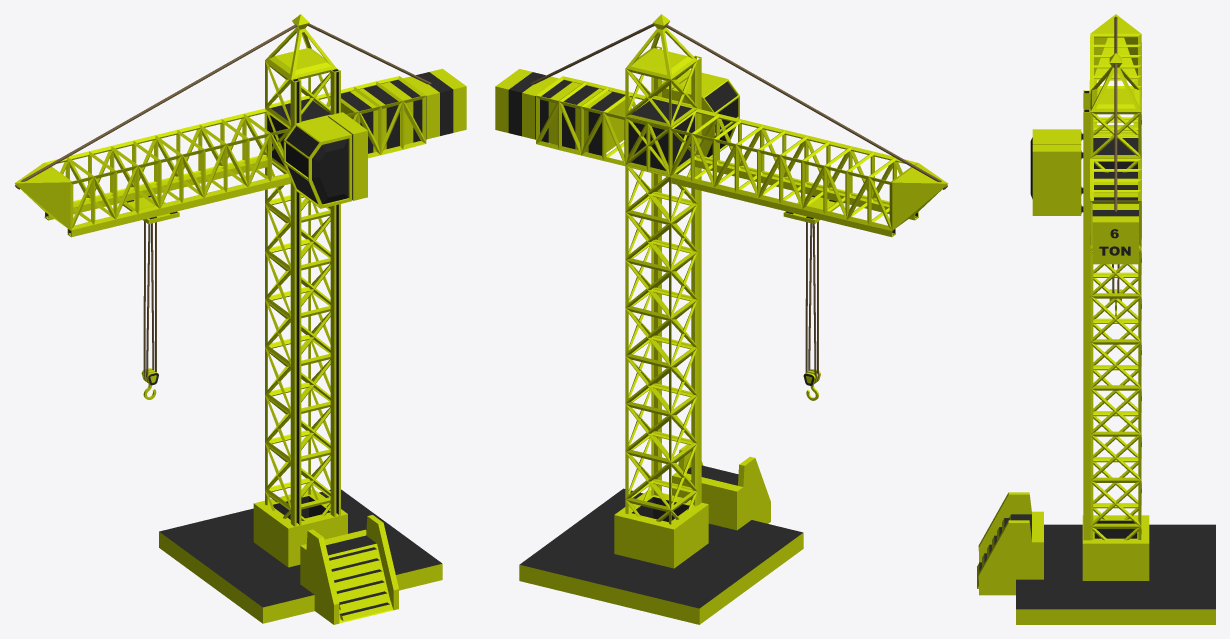
File: home2.glb
3 views of the same model, side by side, from view 1: azimuth 30°, elevation 25°; view 2: azimuth 150°, elevation 25°; view 3: azimuth 270°, elevation 25° (orthographic). The views are drawn at different scales.
Visible parts, largest first — view 1: Cube.003, Cube.006, Cube.011; view 2: Cube.003, Cube.006, Cube.011; view 3: Cube.003, Cube.006.
Part boxes in pixels (box(x1,y1,x2,y2)): Cube.003: box(14, 14, 466, 624); Cube.006: box(283, 112, 367, 208); Cube.011: box(122, 195, 179, 399); Cube.003: box(495, 14, 948, 624); Cube.006: box(662, 69, 739, 157); Cube.011: box(783, 195, 839, 400); Cube.003: box(977, 14, 1215, 624); Cube.006: box(1030, 129, 1083, 215).
Bounding box in the file's own units: 20.12 × 24.02 × 9.81.
